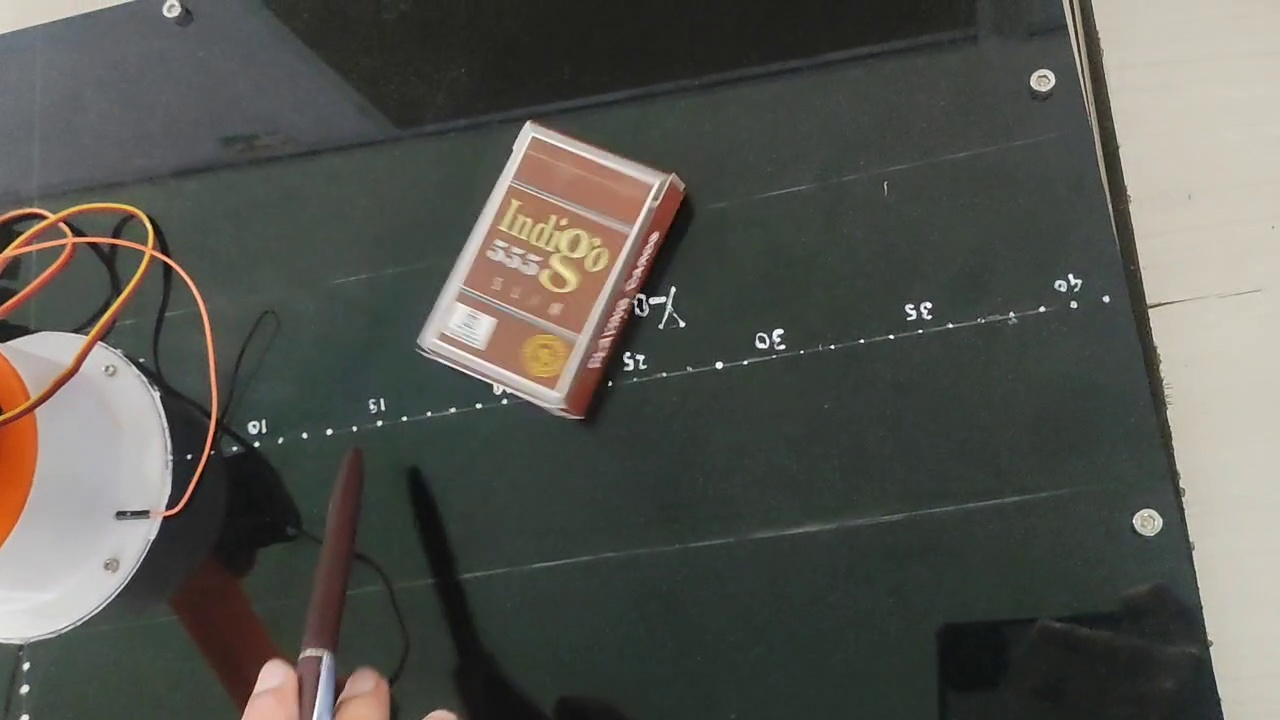BEX: (435, 135, 658, 394)
